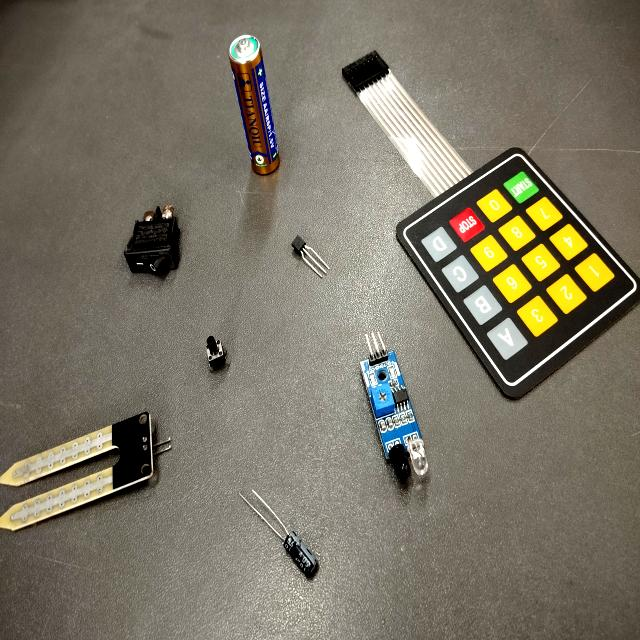capacitor: (284, 533, 319, 578)
